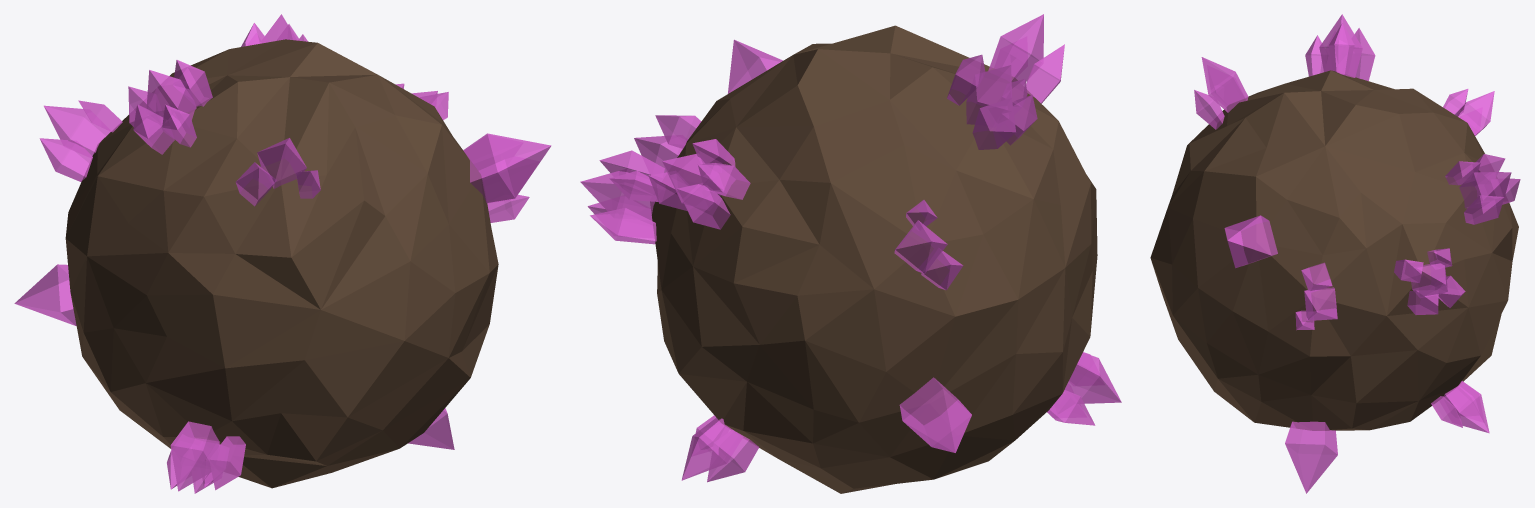
File: ore_01.glb
3 views of the same model, side by side, from view 1: azimuth 30°, elevation 25°; view 2: azimuth 150°, elevation 25°; view 3: azimuth 270°, elevation 25° (orthographic). The views are drawn at different scales.
Parts seen in each view (by area): view 1: ore_planet5; view 2: ore_planet5; view 3: ore_planet5.
Part boxes in pixels (left/top/right/bottom): ore_planet5: left=14, top=14, right=551, bottom=493; ore_planet5: left=580, top=14, right=1121, bottom=493; ore_planet5: left=1150, top=14, right=1520, bottom=493.
Size of the model in its own units: 2.36 by 2.27 by 2.08.
